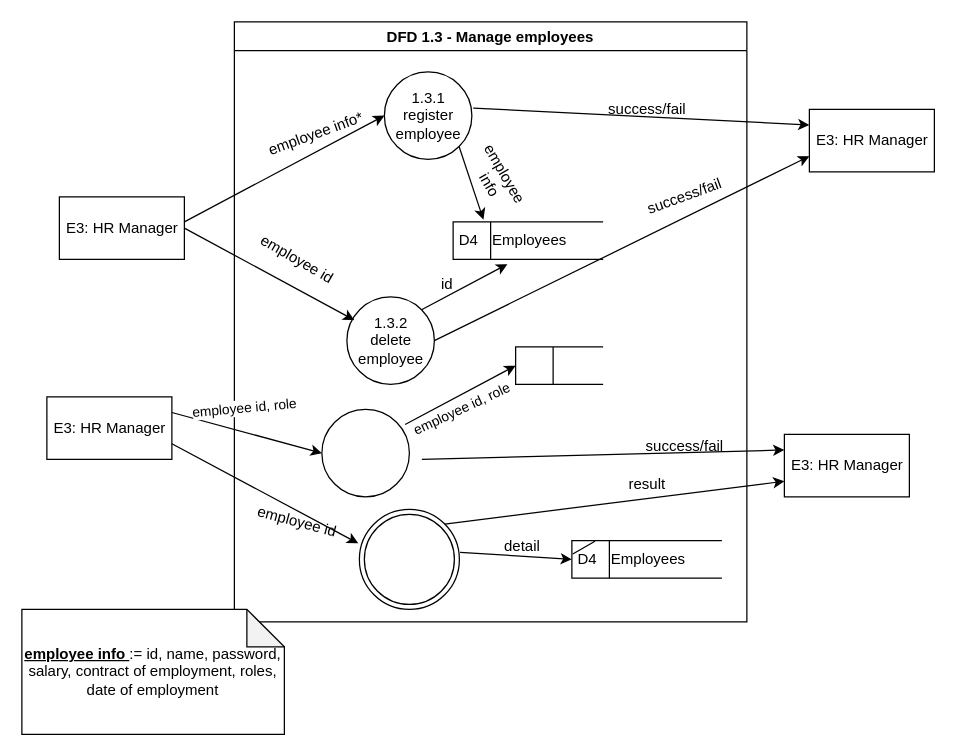
This 956x756 diagram has some shape labels left out. Here are the shapes that lost their labels. From the top down, the centre of each, then its label:
[558,365]: D5 Roles
[365,452]: 1.3.3 certify employee
[408,558]: 1.3.4 manage employee details
